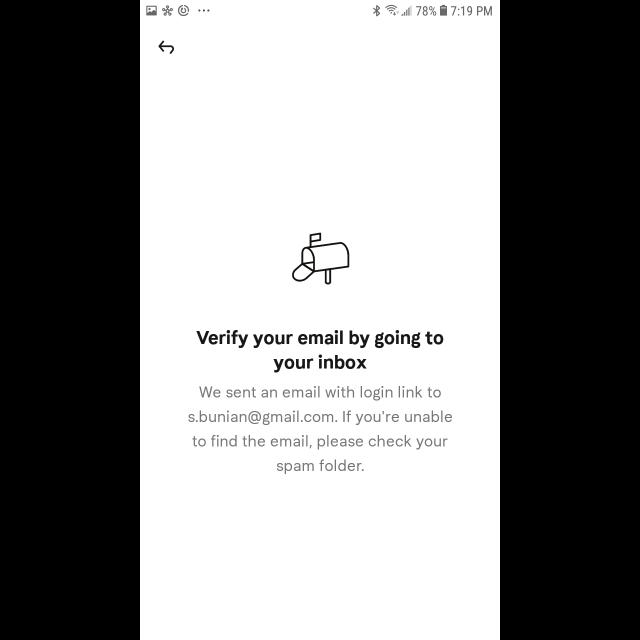icon: (159, 41, 175, 55)
image: (292, 233, 350, 285)
text: (188, 386, 452, 474), (196, 330, 444, 372)
uppertaskbar: (140, 1, 500, 17)
